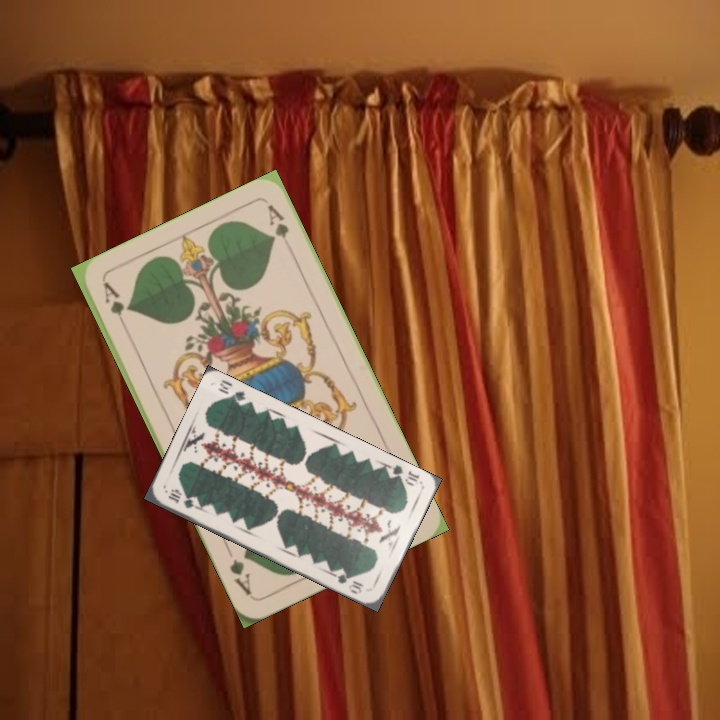G10: (385, 461, 422, 489), (164, 486, 202, 512)
GA: (98, 278, 131, 334)
